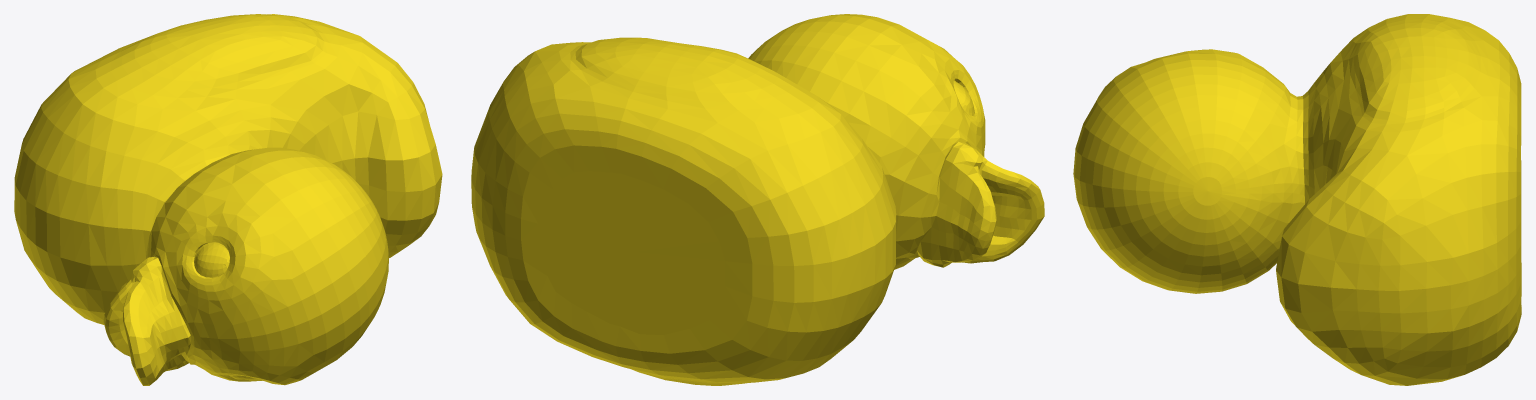
File: duck.obj
3 renders of one model, left to right at view 1: azimuth 30°, elevation 25°; view 2: azimuth 150°, elevation 25°; view 3: azimuth 270°, elevation 25°, orthographic. The views are drawn at different scales.
Visible parts, largest first — view 1: LOD3sp_LOD3spShape; view 2: LOD3sp_LOD3spShape; view 3: LOD3sp_LOD3spShape.
Part boxes in pixels (x1,y1,x2,y2): LOD3sp_LOD3spShape: (14,14,442,385); LOD3sp_LOD3spShape: (471,14,1044,385); LOD3sp_LOD3spShape: (1073,14,1521,385).
Bounding box in the file's own units: 0.0579 × 0.0403 × 0.0539.
